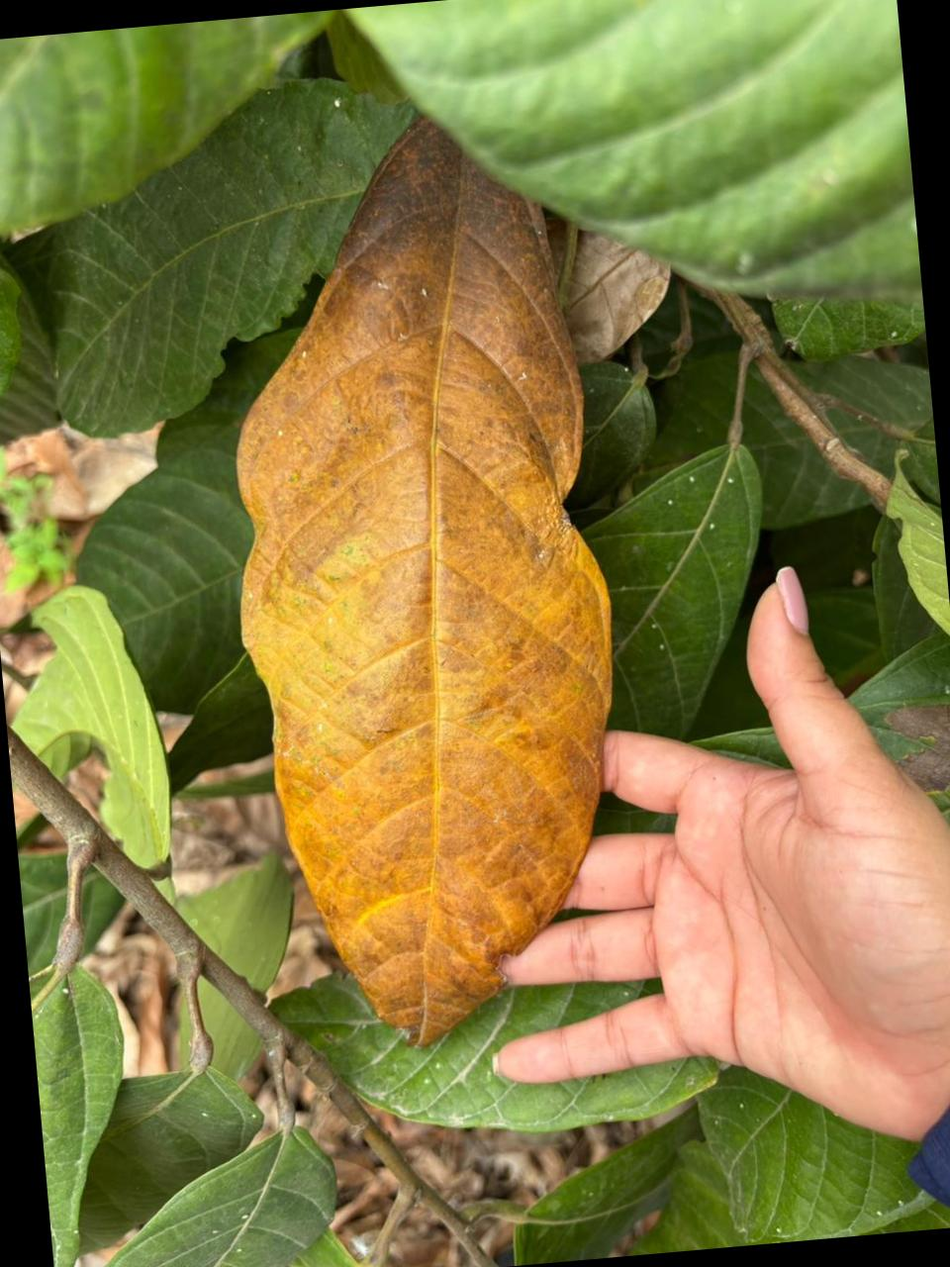Fosforo: (238, 121, 612, 1044)
